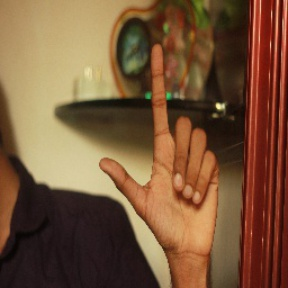L: (96, 40, 227, 241)
